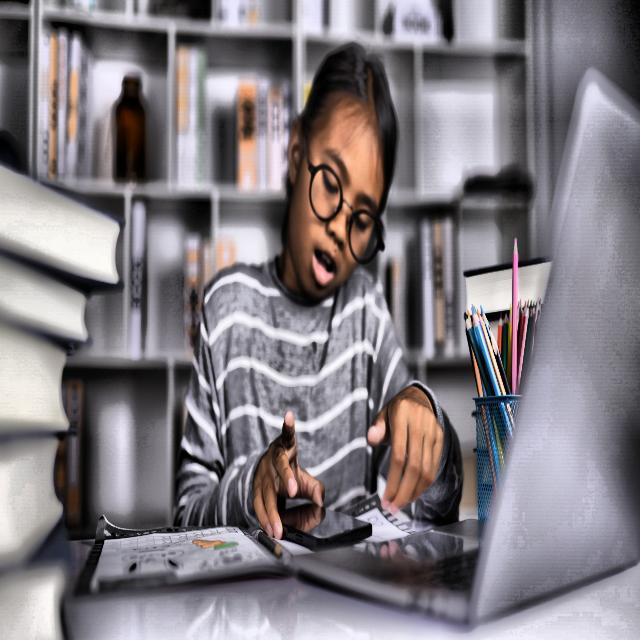Phone: (274, 498, 374, 550)
